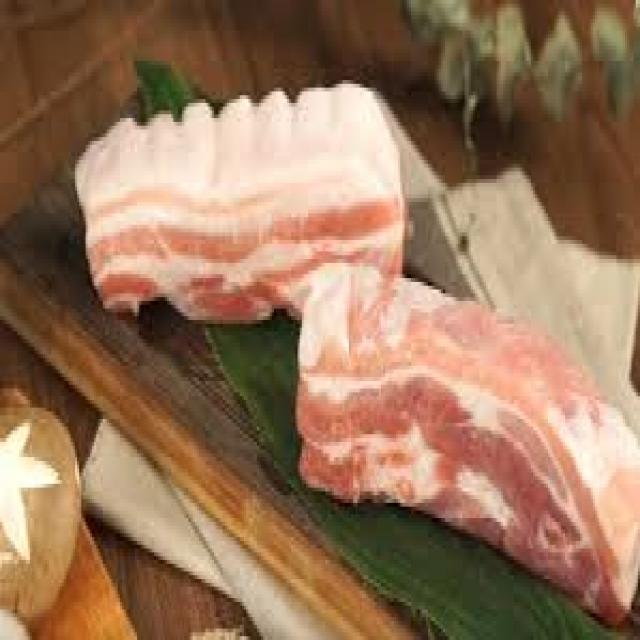Pork: (298, 267, 640, 623), (75, 84, 405, 322)
